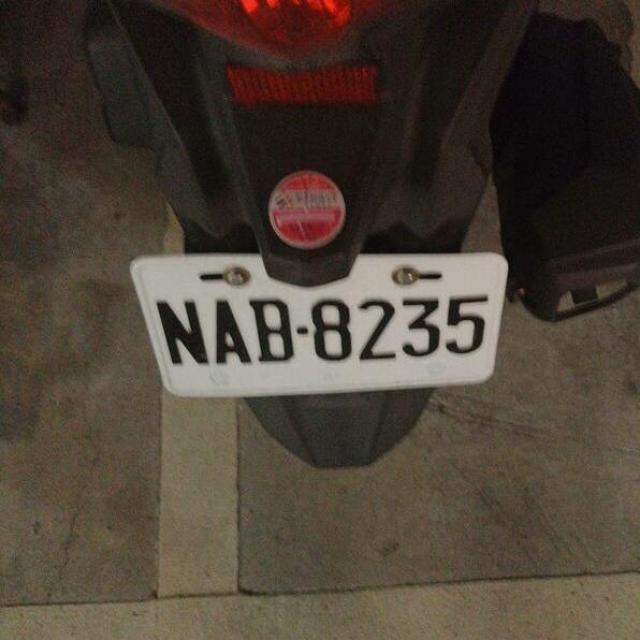W: (124, 234, 520, 409)
